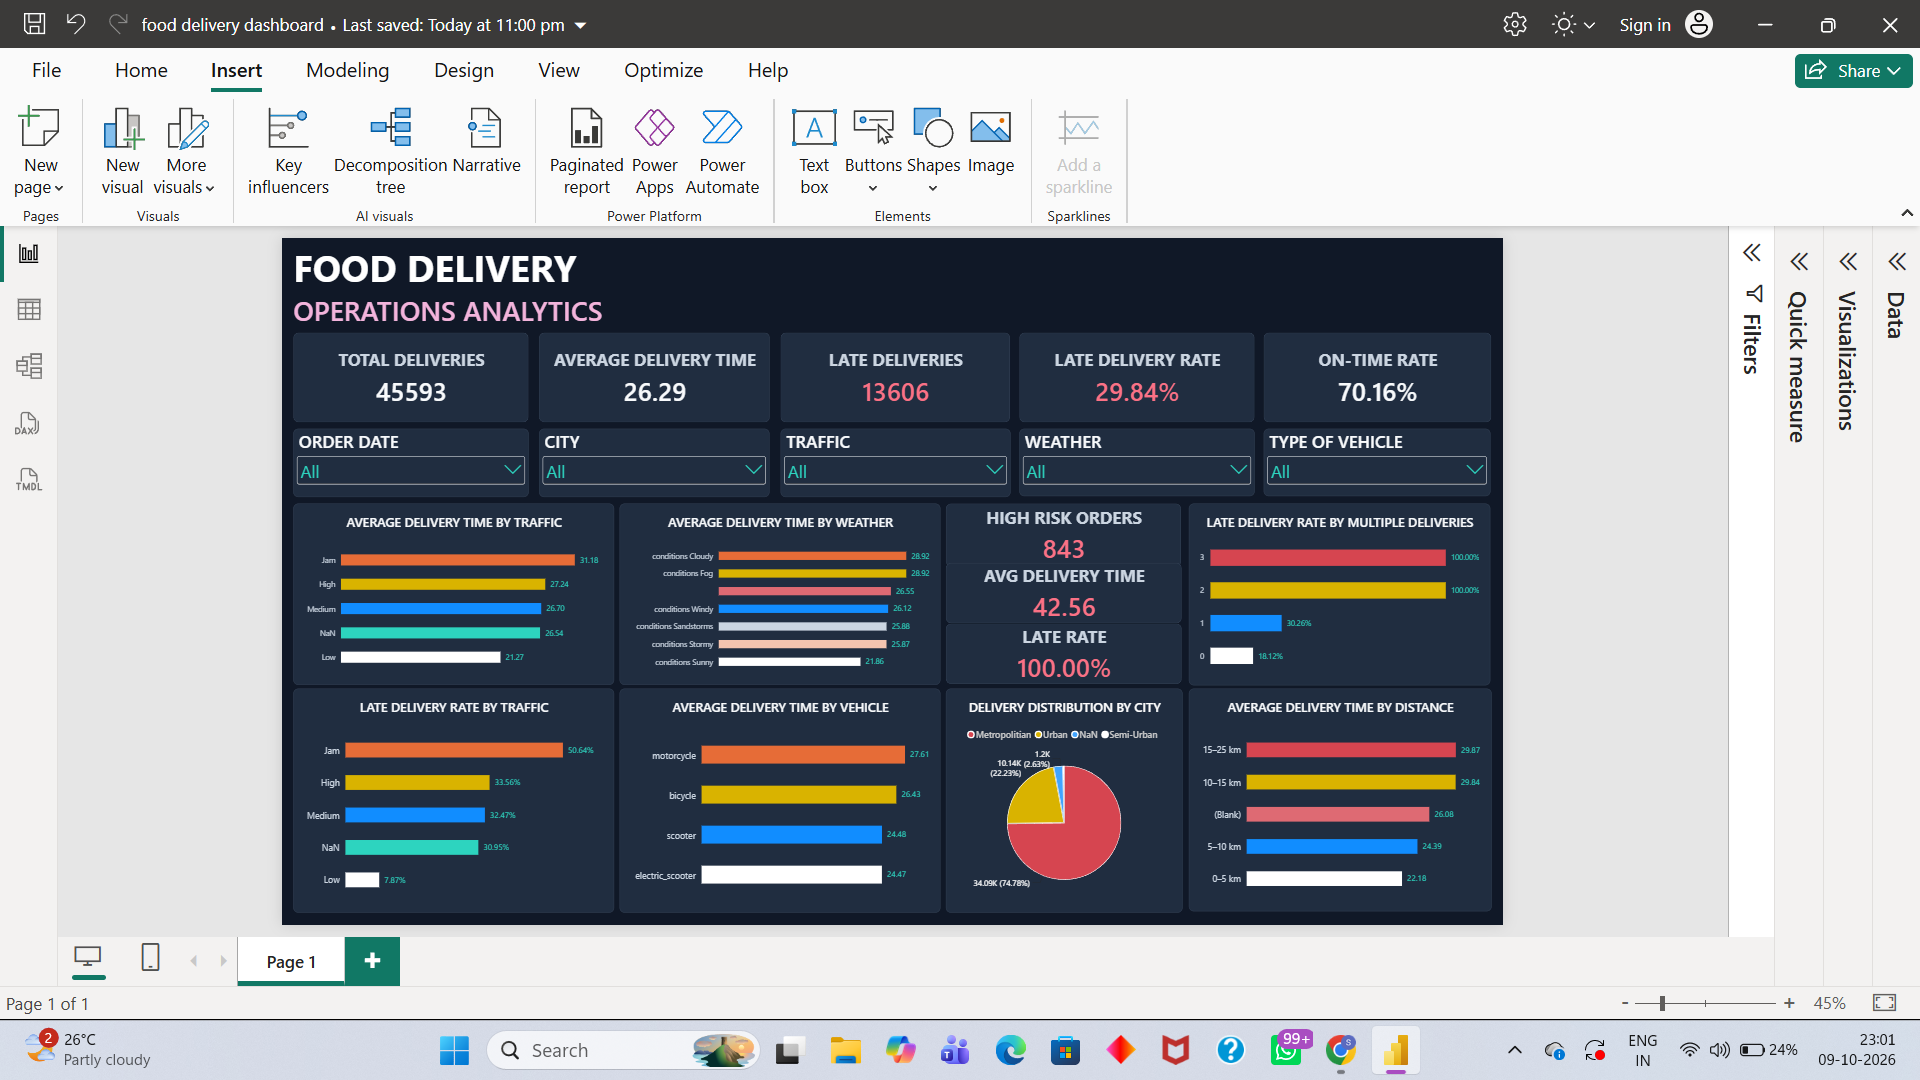

The dashboard page shown, as its layout file describes it:
{"tool":"powerbi","page":{"name":"Page 1","canvas":[1920,1080],"ordinal":0},"visuals":[{"type":"cardVisual","fields":{"Data":["food_delivery_cleaned.Total Deliveries"]},"box":[18.3,148.3,370,141.7],"z":0},{"type":"cardVisual","fields":{"Data":["food_delivery_cleaned.Average Delivery Time"]},"box":[405,148.3,363.3,141.7],"z":1000},{"type":"cardVisual","fields":{"Data":["food_delivery_cleaned.Late Delivery Rate"]},"box":[1160,148.3,370,141.7],"z":2000},{"type":"textbox","box":[17.5,7.5,1882.5,140],"z":3000},{"type":"cardVisual","fields":{"Data":["food_delivery_cleaned.Late Deliveries"]},"box":[783.3,148.3,361.7,141.7],"z":4000},{"type":"cardVisual","fields":{"Data":["food_delivery_cleaned.On-Time Rate"]},"box":[1543.3,148.3,358.3,141.7],"z":5000},{"type":"slicer","fields":{"Values":["food_delivery_cleaned.Order_Date"]},"box":[18.7,300,370,107.5],"z":6000},{"type":"slicer","fields":{"Values":["food_delivery_cleaned.City"]},"box":[405.3,300,362.5,107.5],"z":7000},{"type":"slicer","fields":{"Values":["food_delivery_cleaned.Road_traffic_density"]},"box":[783.3,300,361.7,107.5],"z":8000},{"type":"slicer","fields":{"Values":["food_delivery_cleaned.Weatherconditions"]},"box":[1160,300,370,106.4],"z":9000},{"type":"slicer","fields":{"Values":["food_delivery_cleaned.Type_of_vehicle"]},"box":[1543.3,300,357,106],"z":10000},{"type":"clusteredBarChart","title":"AVERAGE DELIVERY TIME BY TRAFFIC","fields":{"Category":["food_delivery_cleaned.Road_traffic_density"],"Y":["Avg(food_delivery_cleaned.Time_taken(min))"]},"box":[17.5,417.5,505,285],"z":11000},{"type":"clusteredBarChart","title":"AVERAGE DELIVERY TIME BY WEATHER","fields":{"Category":["food_delivery_cleaned.Weatherconditions"],"Y":["Avg(food_delivery_cleaned.Time_taken(min))"]},"box":[530,417.8,505,285],"z":12000},{"type":"clusteredBarChart","title":"LATE DELIVERY RATE BY TRAFFIC","fields":{"Category":["food_delivery_cleaned.Road_traffic_density"],"Y":["food_delivery_cleaned.Late Delivery Rate"]},"box":[17.8,709.4,504.4,352.8],"z":13000},{"type":"clusteredBarChart","title":"AVERAGE DELIVERY TIME BY VEHICLE","fields":{"Category":["food_delivery_cleaned.Type_of_vehicle"],"Y":["Avg(food_delivery_cleaned.Time_taken(min))"]},"box":[531.1,709.4,505,352.8],"z":14000},{"type":"cardVisual","fields":{"Data":["food_delivery_cleaned.High-Risk Deliveries"]},"box":[1045,417.5,370.8,99.2],"z":15000},{"type":"clusteredBarChart","title":"AVERAGE DELIVERY TIME BY DISTANCE","fields":{"Category":["food_delivery_cleaned.Distance Band"],"Y":["Avg(food_delivery_cleaned.Time_taken(min))"]},"box":[1425.6,709.4,476.1,350.6],"z":16000},{"type":"clusteredBarChart","title":"LATE DELIVERY RATE BY MULTIPLE DELIVERIES","fields":{"Category":["food_delivery_cleaned.multiple_deliveries"],"Y":["food_delivery_cleaned.Late Delivery Rate"]},"box":[1425.7,417.1,474.3,285.7],"z":17000},{"type":"cardVisual","fields":{"Data":["food_delivery_cleaned.High-Risk Average Time"]},"box":[1044.2,511.7,371.7,95],"z":18000},{"type":"cardVisual","fields":{"Data":["food_delivery_cleaned.High-Risk Late Rate"]},"box":[1044.2,606.7,371.7,95],"z":19000},{"type":"pieChart","title":"DELIVERY DISTRIBUTION BY CITY","fields":{"Category":["food_delivery_cleaned.City"],"Y":["CountNonNull(food_delivery_cleaned.ID)"]},"box":[1043.9,709.4,372.2,352.2],"z":19001}]}

Visuals, with their boxes on the page's 1920x1080 design canvas (x1, y1, x2, y2). These are canvas units, not pixel positions in the 1920x1080 screenshot, which may show the page scaled, cropped or inside an application window:
cardVisual - food_delivery_cleaned.Total Deliveries: left=18, top=148, right=388, bottom=290
cardVisual - food_delivery_cleaned.Average Delivery Time: left=405, top=148, right=768, bottom=290
cardVisual - food_delivery_cleaned.Late Delivery Rate: left=1160, top=148, right=1530, bottom=290
textbox: left=18, top=8, right=1900, bottom=148
cardVisual - food_delivery_cleaned.Late Deliveries: left=783, top=148, right=1145, bottom=290
cardVisual - food_delivery_cleaned.On-Time Rate: left=1543, top=148, right=1902, bottom=290
slicer - food_delivery_cleaned.Order_Date: left=19, top=300, right=389, bottom=408
slicer - food_delivery_cleaned.City: left=405, top=300, right=768, bottom=408
slicer - food_delivery_cleaned.Road_traffic_density: left=783, top=300, right=1145, bottom=408
slicer - food_delivery_cleaned.Weatherconditions: left=1160, top=300, right=1530, bottom=406
slicer - food_delivery_cleaned.Type_of_vehicle: left=1543, top=300, right=1900, bottom=406
"AVERAGE DELIVERY TIME BY TRAFFIC" clusteredBarChart: left=18, top=418, right=522, bottom=702
"AVERAGE DELIVERY TIME BY WEATHER" clusteredBarChart: left=530, top=418, right=1035, bottom=703
"LATE DELIVERY RATE BY TRAFFIC" clusteredBarChart: left=18, top=709, right=522, bottom=1062
"AVERAGE DELIVERY TIME BY VEHICLE" clusteredBarChart: left=531, top=709, right=1036, bottom=1062
cardVisual - food_delivery_cleaned.High-Risk Deliveries: left=1045, top=418, right=1416, bottom=517
"AVERAGE DELIVERY TIME BY DISTANCE" clusteredBarChart: left=1426, top=709, right=1902, bottom=1060
"LATE DELIVERY RATE BY MULTIPLE DELIVERIES" clusteredBarChart: left=1426, top=417, right=1900, bottom=703
cardVisual - food_delivery_cleaned.High-Risk Average Time: left=1044, top=512, right=1416, bottom=607
cardVisual - food_delivery_cleaned.High-Risk Late Rate: left=1044, top=607, right=1416, bottom=702
"DELIVERY DISTRIBUTION BY CITY" pieChart: left=1044, top=709, right=1416, bottom=1062
